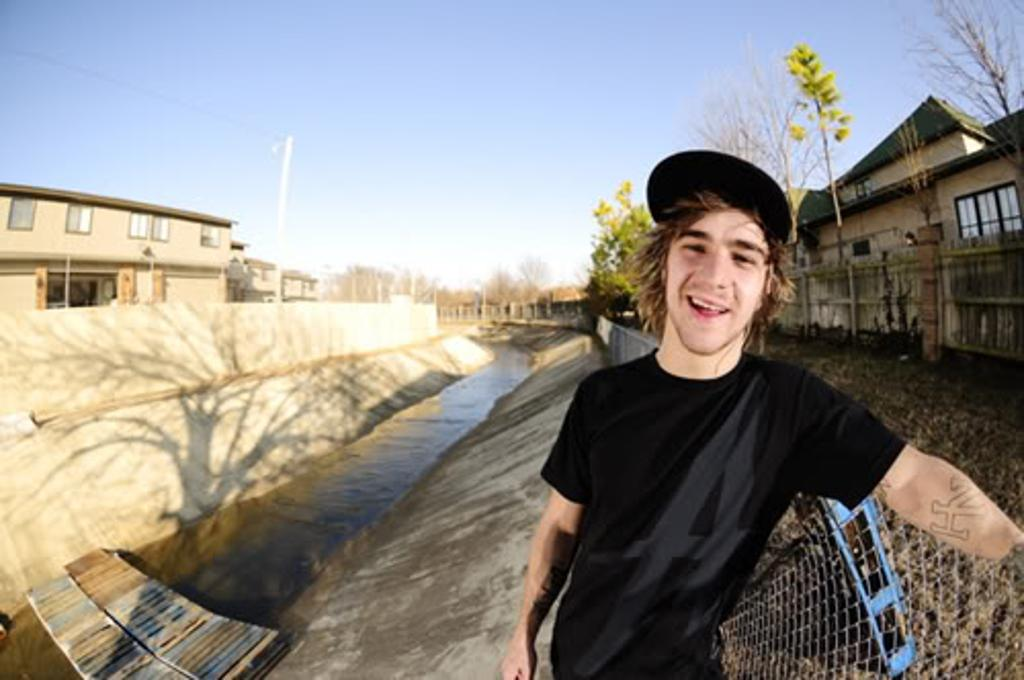face: (668, 210, 764, 356)
